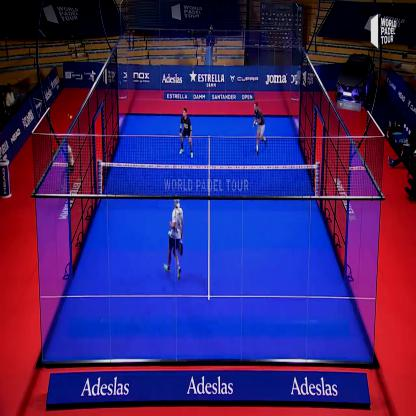ball: (68, 114, 74, 122)
